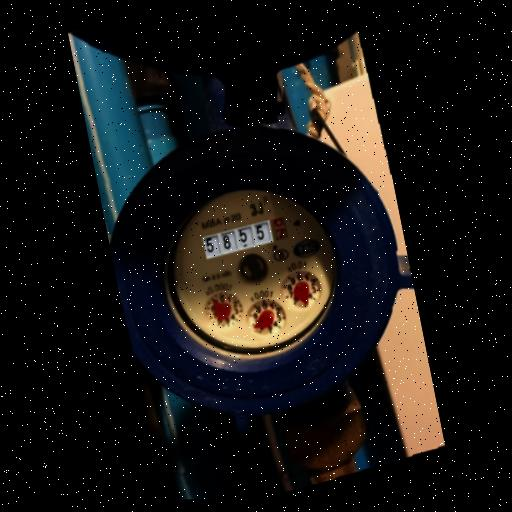5: (237, 226, 253, 247), (254, 222, 270, 243), (205, 235, 220, 257)
6: (273, 217, 288, 241)
8: (221, 230, 237, 251)
border_water_meter_number: (202, 214, 290, 261)
